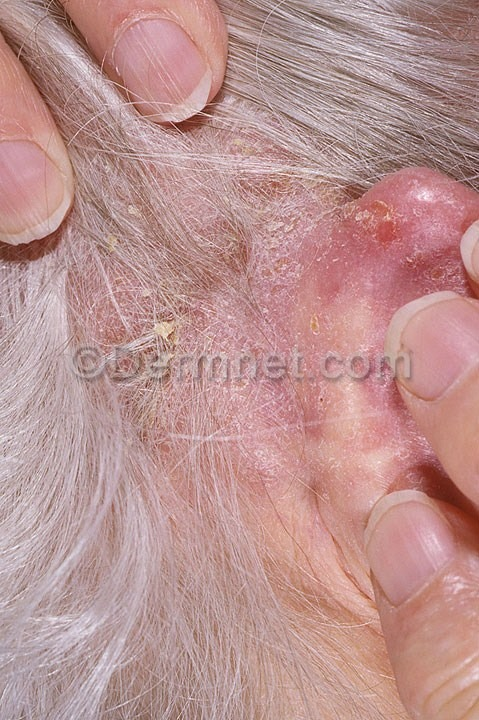Psoriasis: (126, 193, 347, 455), (350, 171, 463, 290)
